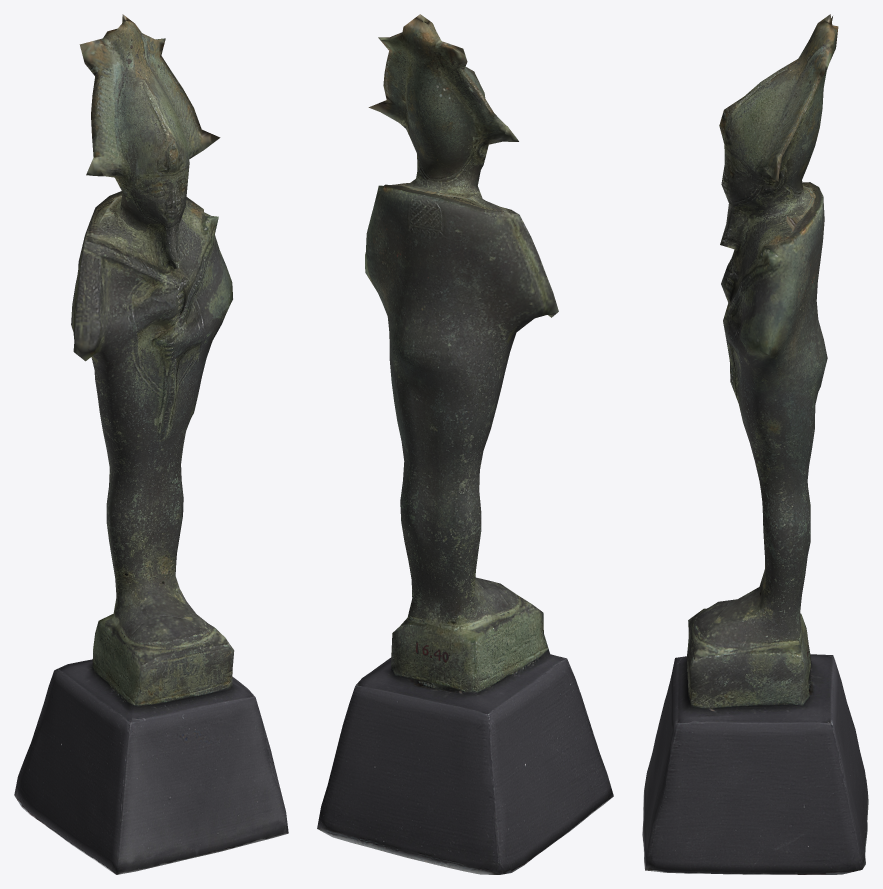
The model's file is god_osiris.glb.
The picture shows the model from 3 angles, left to right: view 1: azimuth 30°, elevation 25°; view 2: azimuth 150°, elevation 25°; view 3: azimuth 270°, elevation 25°; orthographic projection. The views are drawn at different scales.
Visible parts, largest first — view 1: Object_2; view 2: Object_2; view 3: Object_2.
Part boxes in pixels (x1,y1,x2,y2): Object_2: [14, 14, 288, 874]; Object_2: [317, 14, 613, 874]; Object_2: [642, 14, 868, 874].
Size of the model in its own units: 0.7158 by 2.98 by 0.7467.
Materials: 1 (1 with a texture image).
